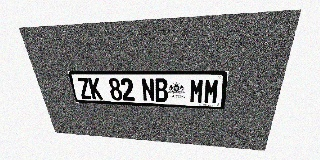2: (120, 78, 135, 101)
8: (108, 78, 123, 100)
B: (154, 78, 168, 102)
K: (88, 78, 103, 100)
M: (203, 79, 220, 104), (189, 79, 204, 104)
N: (141, 78, 155, 102)
Z: (77, 78, 92, 99)
